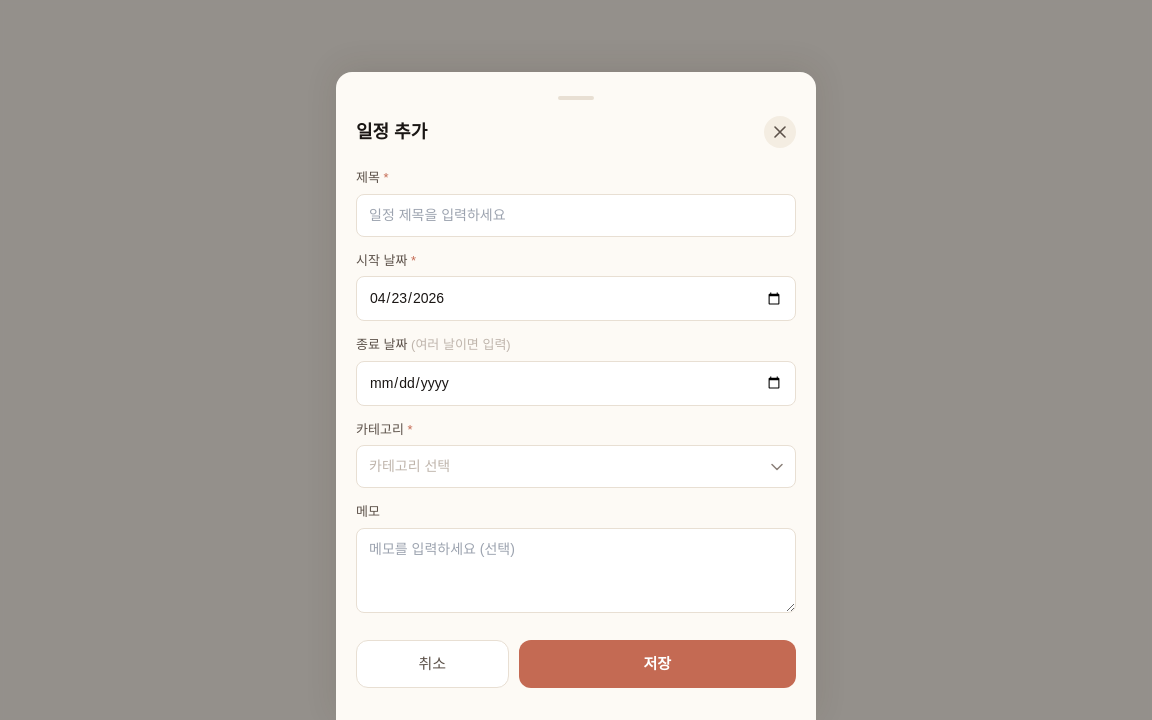
it: EventForm › 검증: 필수 필드 미입력 시 에러 › 제목 없이 제출 시 제목 에러가 표시된다
Click the button "저장" at (657,664), box x1=519 y1=640 x2=796 y2=688
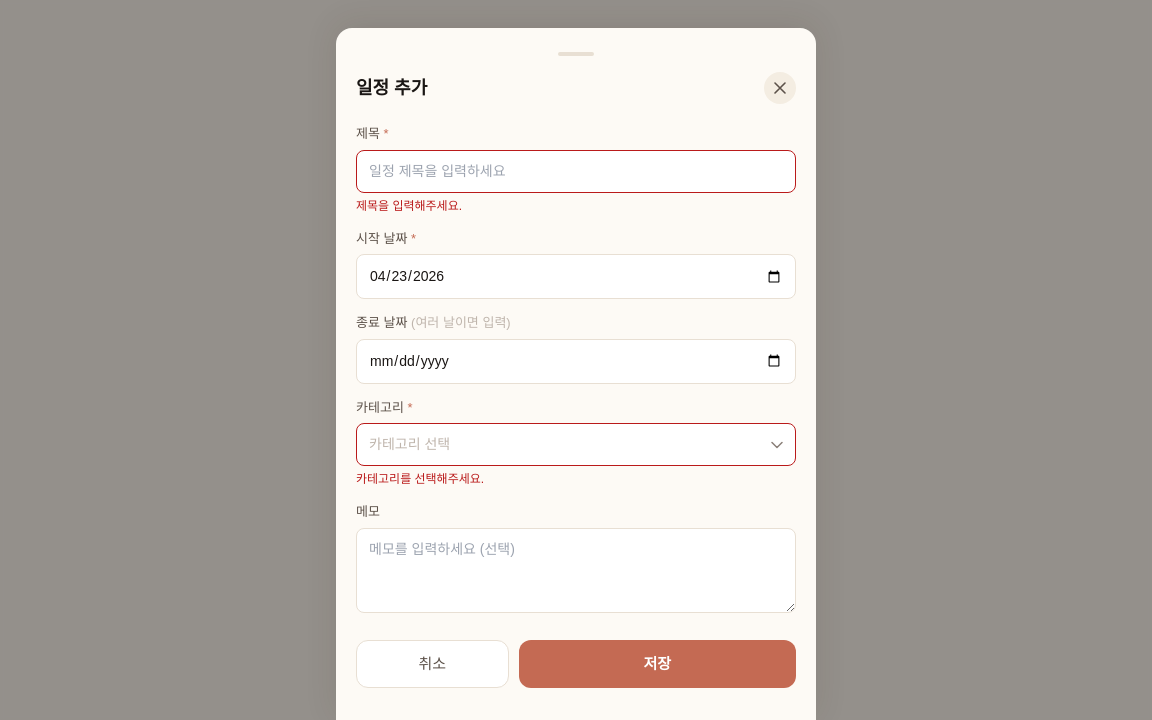
Expected: the text "제목을 입력해주세요." is shown, x1=356 y1=198 x2=462 y2=212
